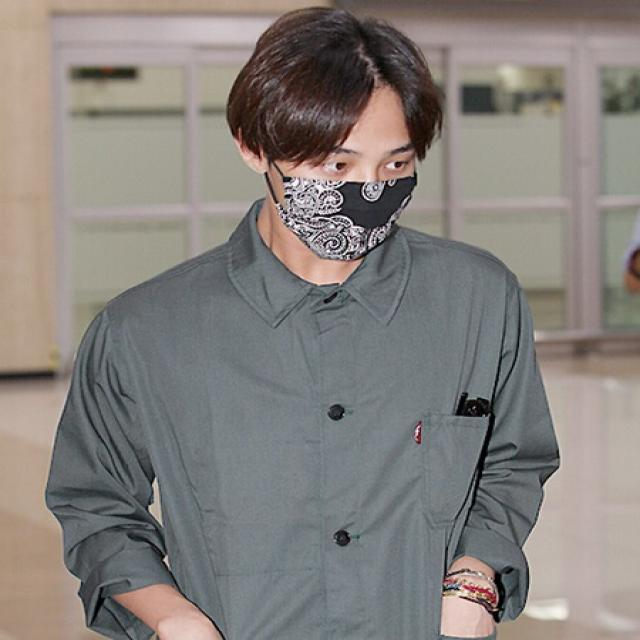mask: (279, 81, 415, 256)
